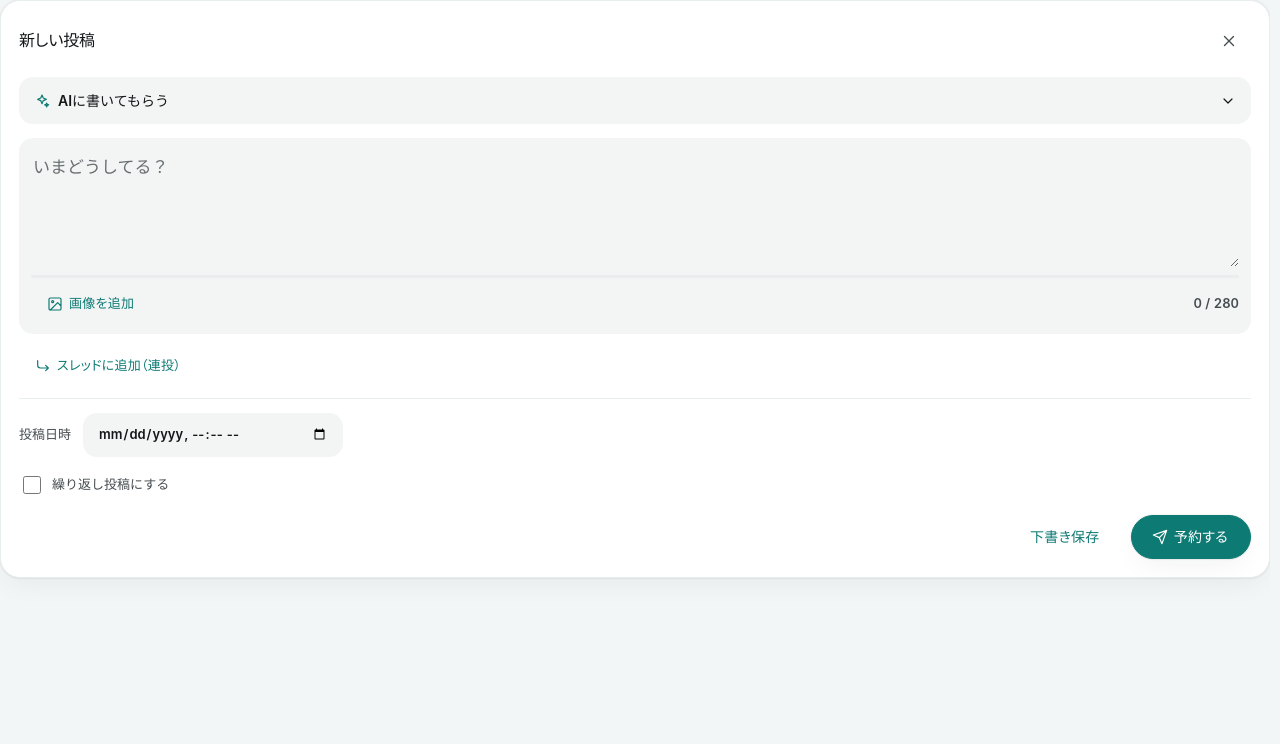
Scenario: PostComposer: 本文の下からAIに手直しを頼む › 本文を書くと現れ、押すだけで指示なしに生成まで進む
Type "会社の人からタンブラーはダメだと言われた" into the text box with placeholder "いまどうしてる？". click: [635, 208]
box: x1=31 y1=150 x2=1239 y2=267
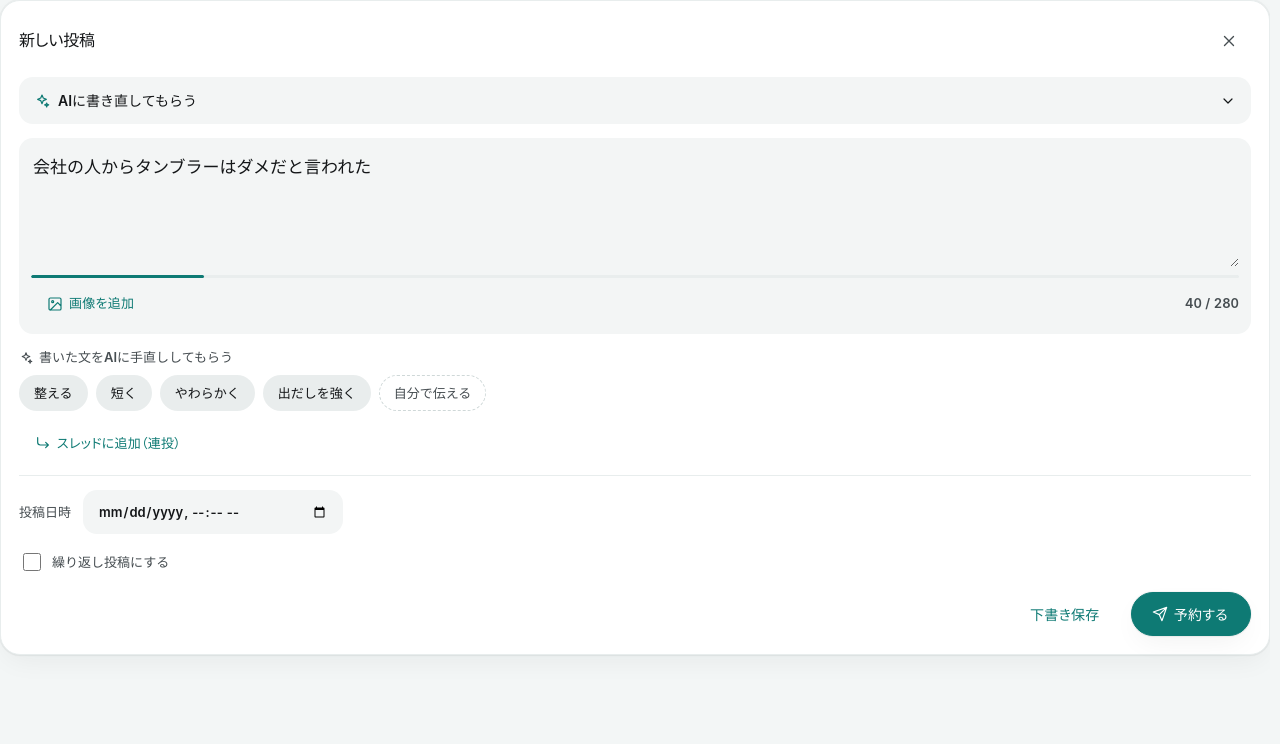
Click the button "短く". click: [124, 393]
box: x1=96 y1=375 x2=152 y2=411
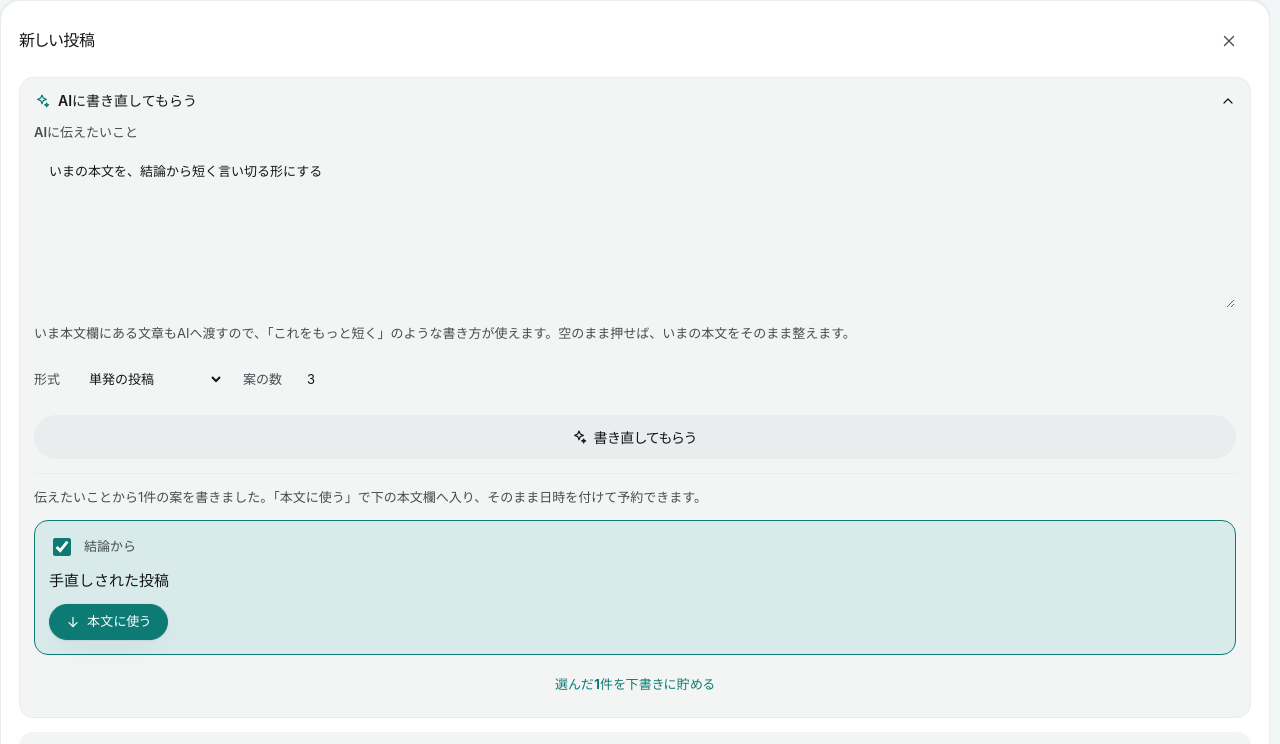
Now the text "手直しされた投稿" is shown, box x1=49 y1=569 x2=169 y2=594
